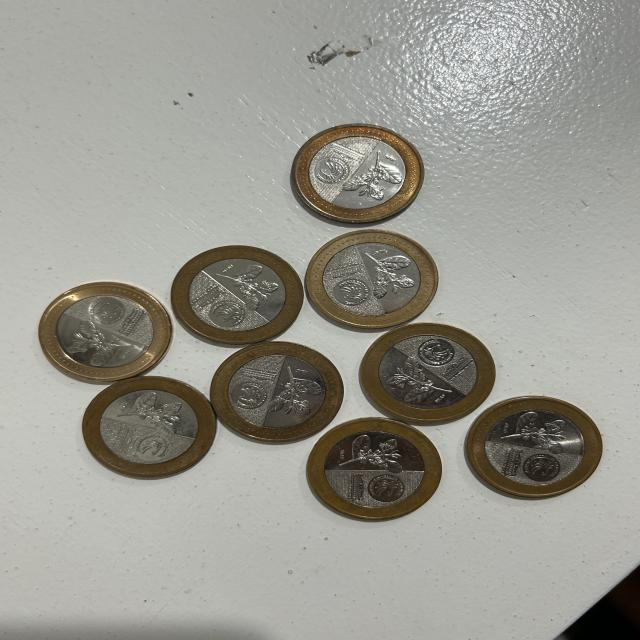20_New_Back: (384, 354, 458, 405), (362, 247, 419, 302), (68, 322, 138, 366), (334, 432, 403, 476), (118, 394, 189, 434), (342, 150, 405, 194), (268, 363, 322, 414), (504, 408, 565, 452), (212, 264, 272, 308)
